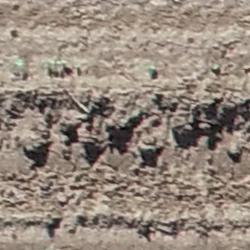cotton: (16, 59, 22, 69), (55, 60, 66, 65), (213, 63, 219, 70), (149, 66, 154, 74), (75, 63, 80, 68)
